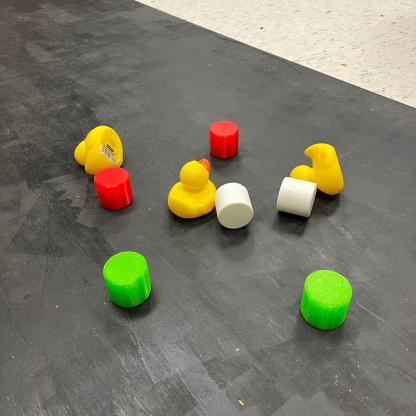duck: (287, 140, 348, 197), (167, 157, 217, 220), (74, 123, 125, 176)
green cylinder: (300, 267, 354, 331), (102, 249, 154, 308)
red cylinder: (91, 167, 135, 212), (208, 120, 240, 158)
white cylinder: (215, 180, 257, 230), (275, 176, 320, 220)
